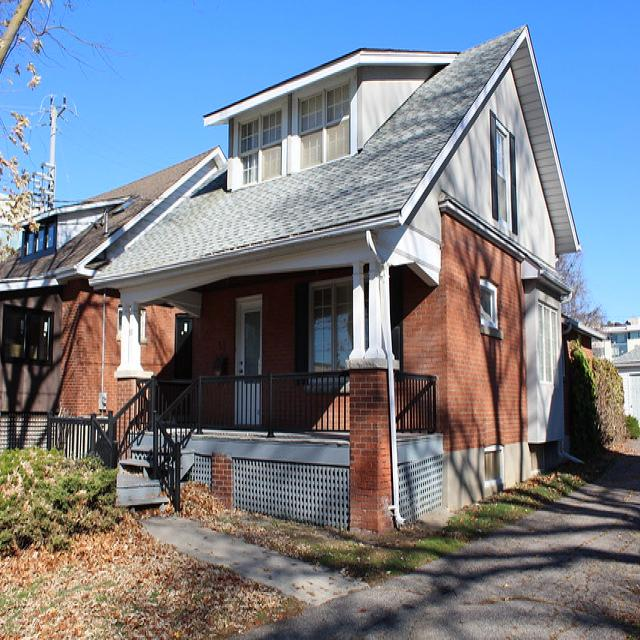Normal_building: (87, 19, 582, 545)
